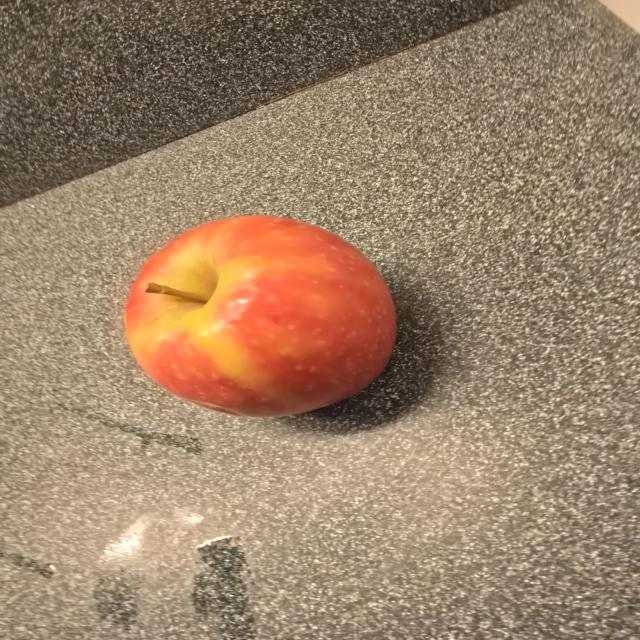Apple: (105, 202, 403, 427)
